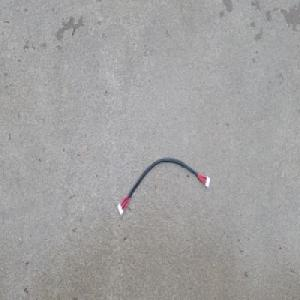Wire: (115, 156, 211, 218)
